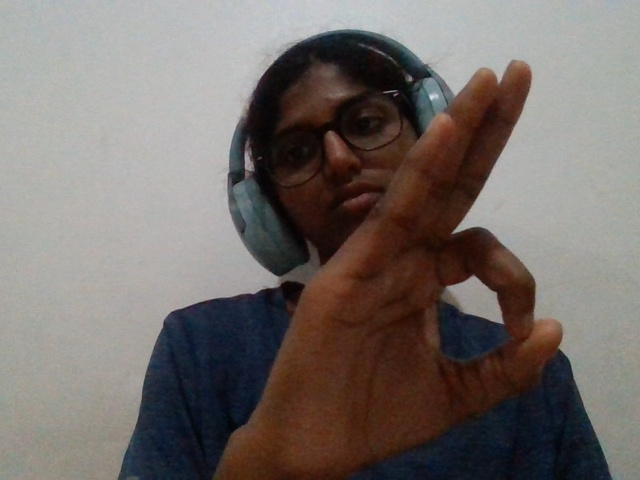F: (207, 45, 581, 480)
